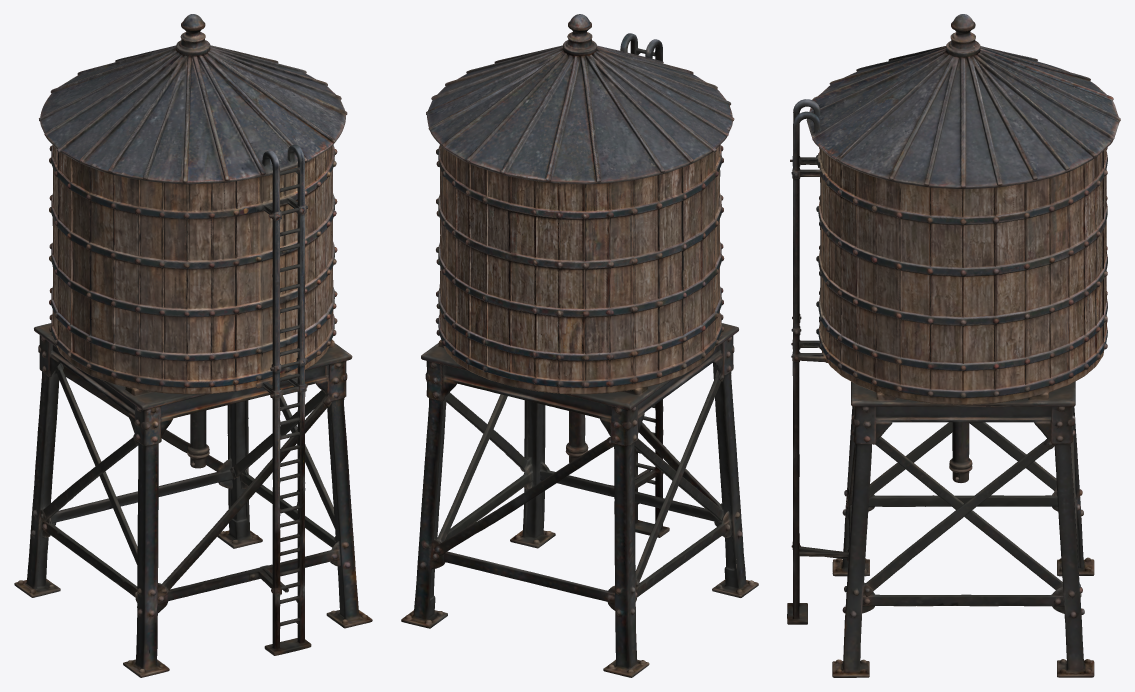
Rendered from water-tower.glb.
The picture shows the model from 3 angles, left to right: view 1: azimuth 30°, elevation 25°; view 2: azimuth 150°, elevation 25°; view 3: azimuth 270°, elevation 25°; orthographic projection. The views are drawn at different scales.
Visible parts, largest first — view 1: tripo_node_773ed6a2-499a-442e-ba37-96a5a382fa4d; view 2: tripo_node_773ed6a2-499a-442e-ba37-96a5a382fa4d; view 3: tripo_node_773ed6a2-499a-442e-ba37-96a5a382fa4d.
Boxes of the visible parts, left/top/right/bottom form: tripo_node_773ed6a2-499a-442e-ba37-96a5a382fa4d: left=14, top=14, right=372, bottom=677; tripo_node_773ed6a2-499a-442e-ba37-96a5a382fa4d: left=401, top=14, right=758, bottom=677; tripo_node_773ed6a2-499a-442e-ba37-96a5a382fa4d: left=787, top=14, right=1120, bottom=677.
Size of the model in its own units: 0.4694 by 0.9785 by 0.4891.
Materials: 1 (1 with a texture image).
